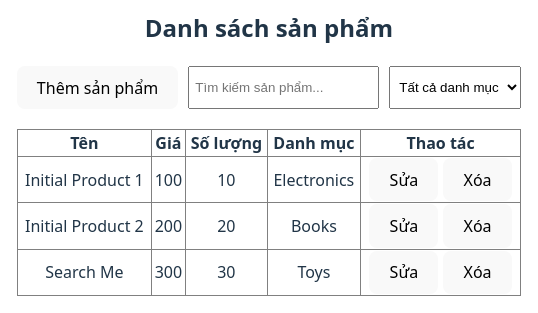
Test case: Product E2E Automation Testing › should allow a user to search for products
Type "Search Me" into the field with placeholder "Tìm kiếm sản phẩm..." at (284, 88), box [188,66,379,109]
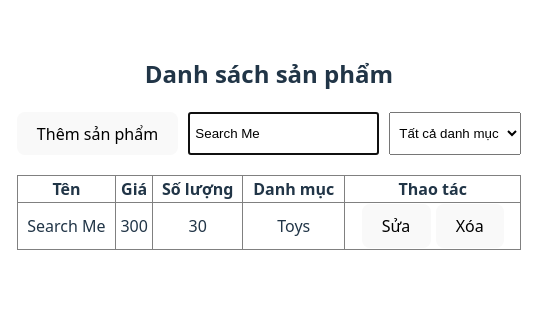
Expected: the cell "Search Me" is shown, [17,203,116,249]
Result: the cell no longer shows "Initial Product 1"
